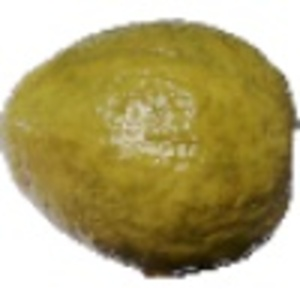goiaba: (4, 11, 297, 286)
